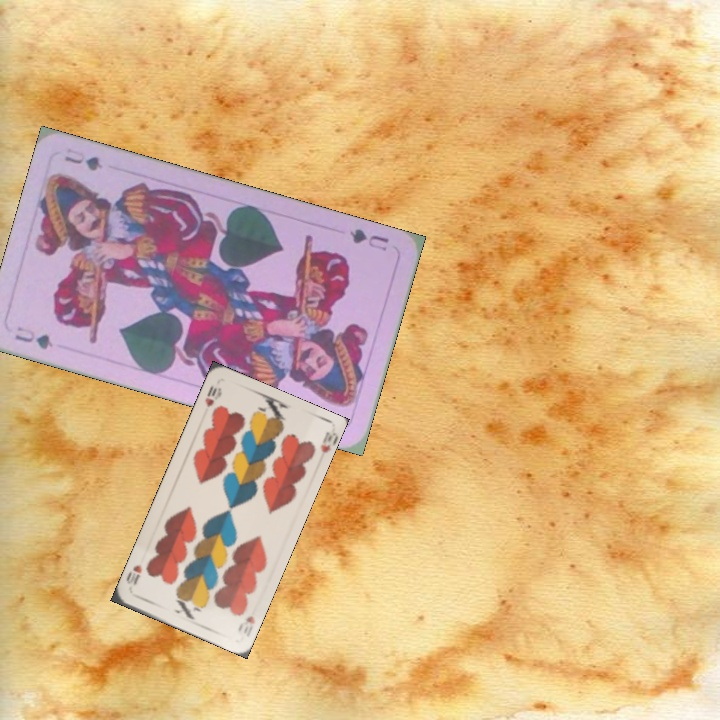GU: (11, 322, 56, 353), (345, 224, 391, 254)
H10: (234, 612, 258, 639), (201, 382, 224, 410)
